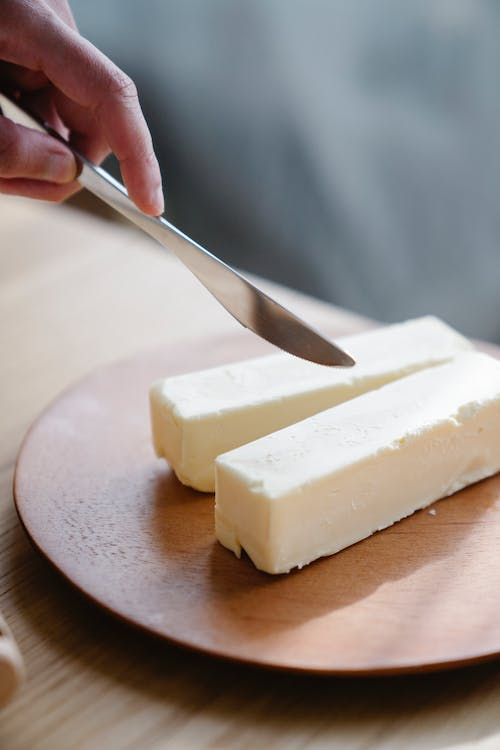knife: (0, 90, 356, 372)
